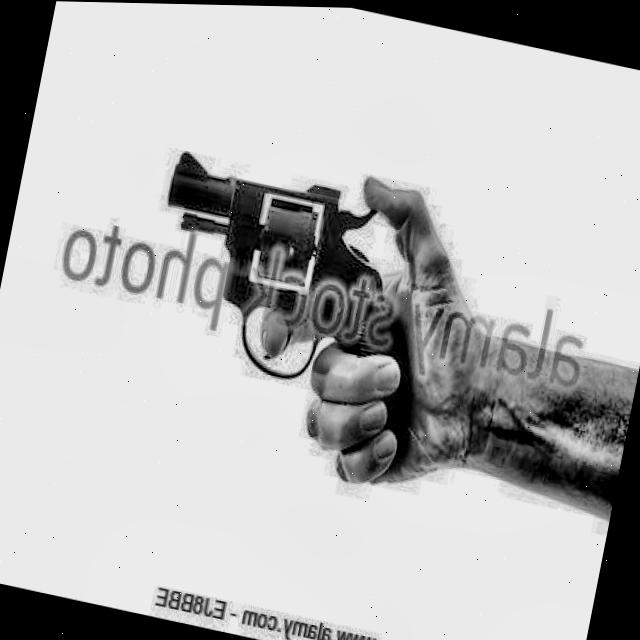pistol: (160, 152, 442, 493)
